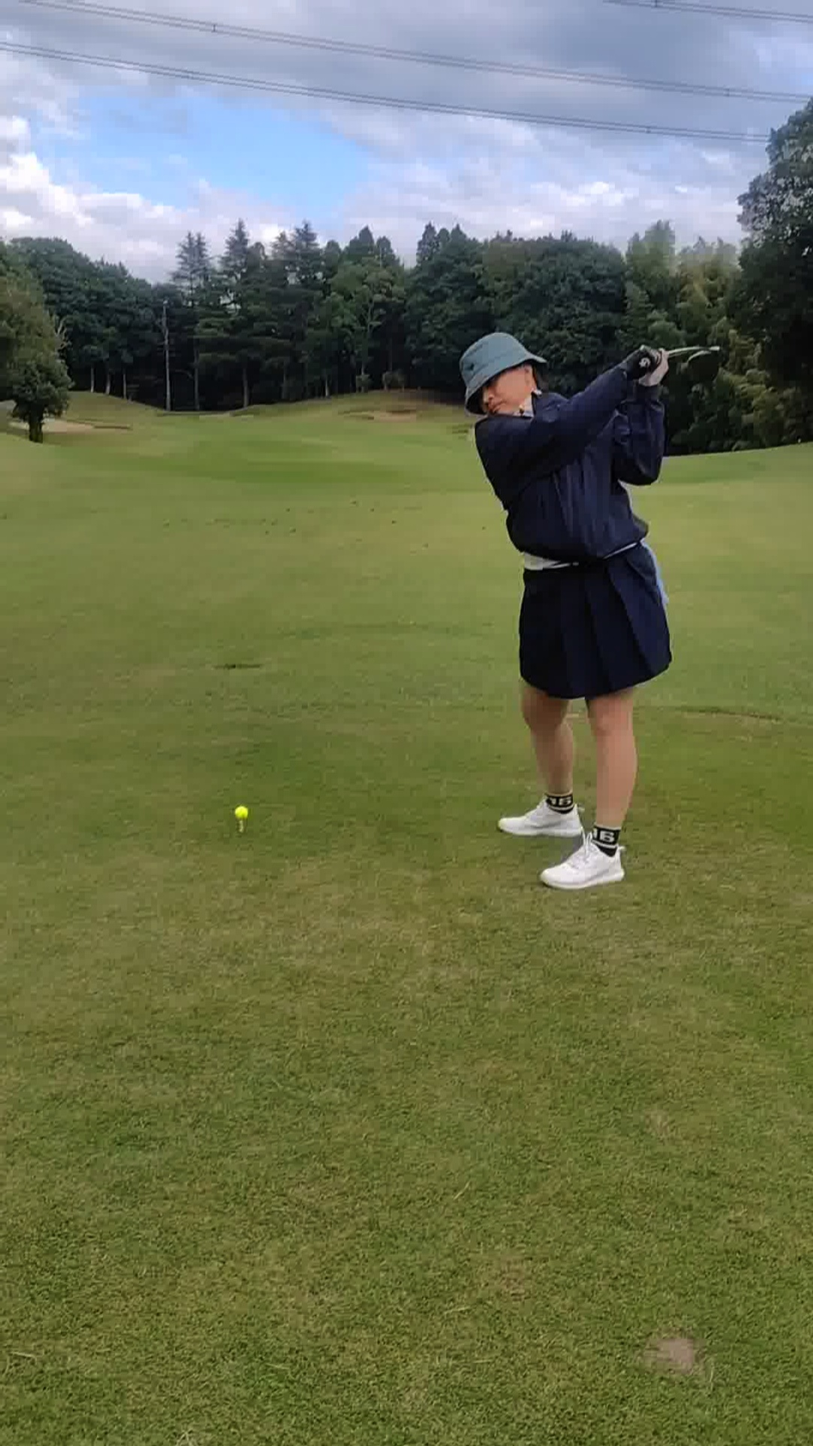clubhead: (626, 276, 744, 440)
